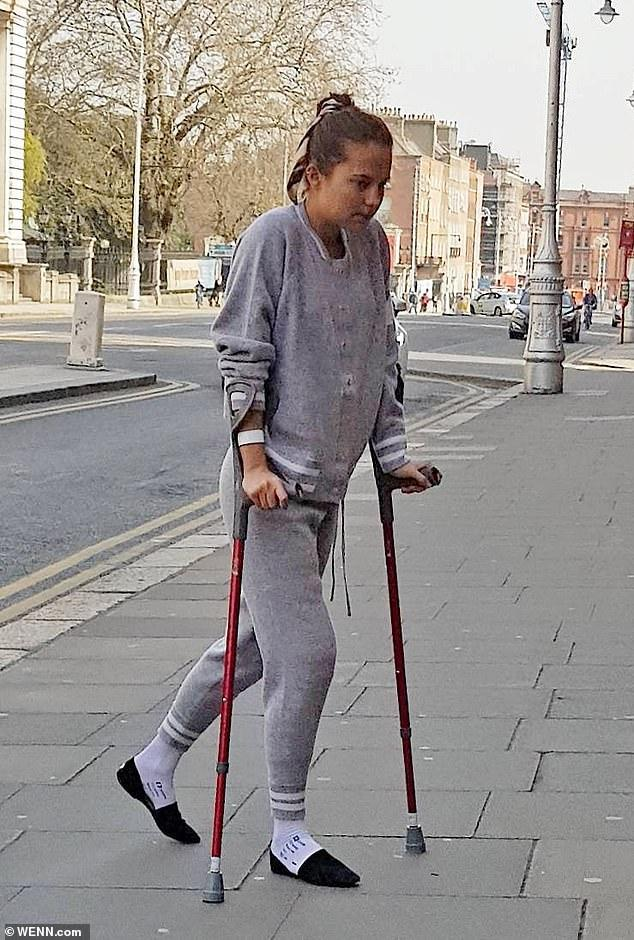crutches: (107, 54, 446, 907)
